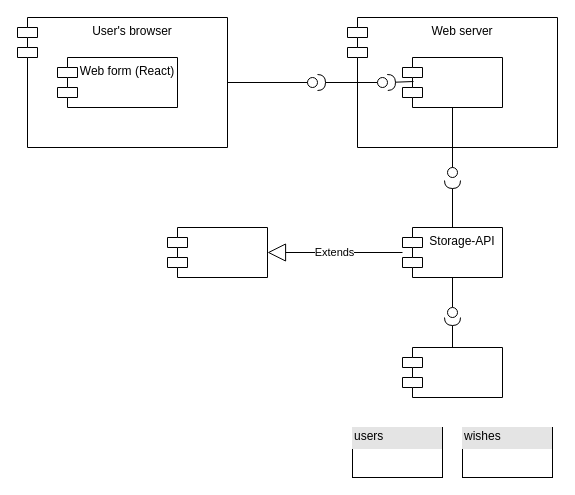
Some shapes in this 575 by 495 pixel diagram are drawn without their labels. Each missing label, with the box of its shape:
Database: (402, 346, 502, 398)
OpenAPI specification for Wishlist: (166, 226, 268, 278)
Web backend: (402, 56, 502, 108)
